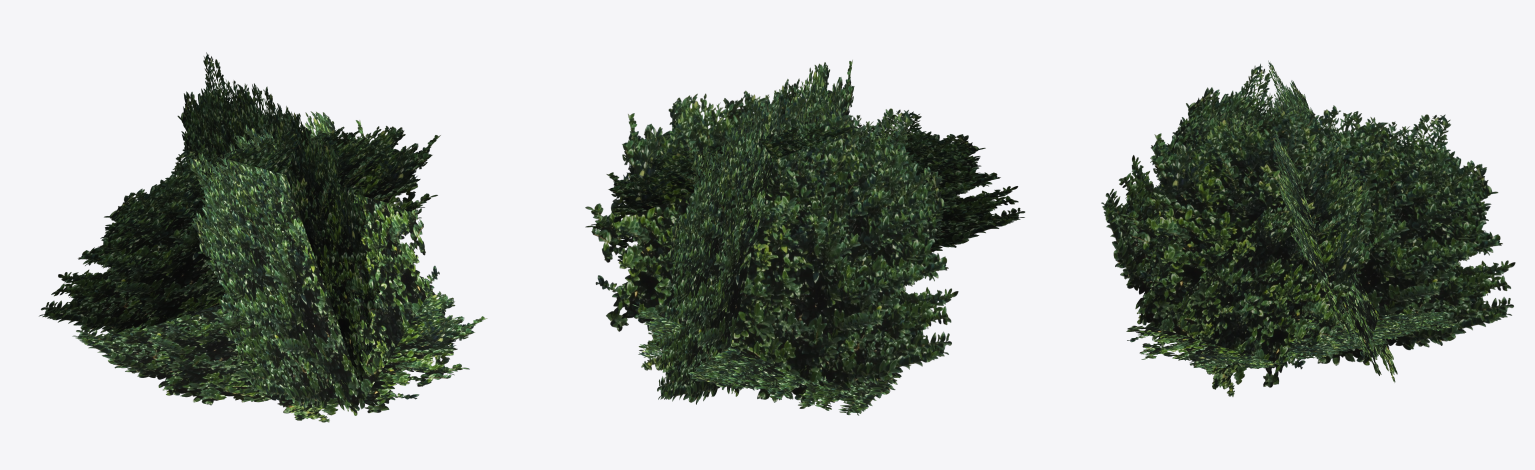
The model's file is trees_and_bush_pack_bush_small.glb.
3 views of the same model, side by side, from view 1: azimuth 30°, elevation 25°; view 2: azimuth 150°, elevation 25°; view 3: azimuth 270°, elevation 25° (orthographic). The views are drawn at different scales.
Parts seen in each view (by area): view 1: BushSmall; view 2: BushSmall; view 3: BushSmall.
Part boxes in pixels (x1,y1,x2,y2): BushSmall: [39, 52, 487, 422]; BushSmall: [585, 60, 1024, 415]; BushSmall: [1101, 60, 1515, 396].
Bounding box in the file's own units: 1.03 × 0.7313 × 1.07.
1 material, 1 textured.
